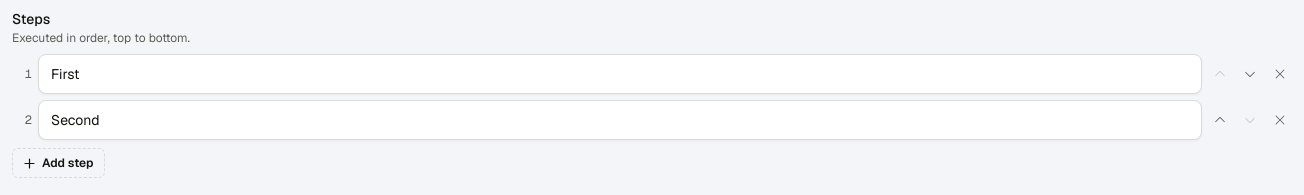
Test: StepListField › reorders rows with the move up/down buttons
The image size is (1304, 195).
Click the 1st button named "Move down" at x=1250, y=74, box [1238,62,1262,86]
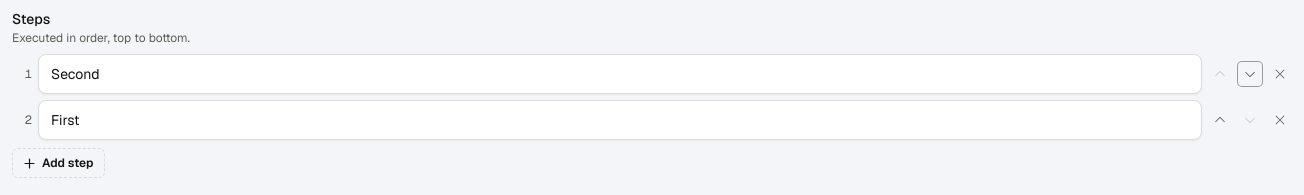
Now the field named "Step 1" holds "Second", box [38,54,1202,94]
Now the field named "Step 2" holds "First", box [38,100,1202,140]
